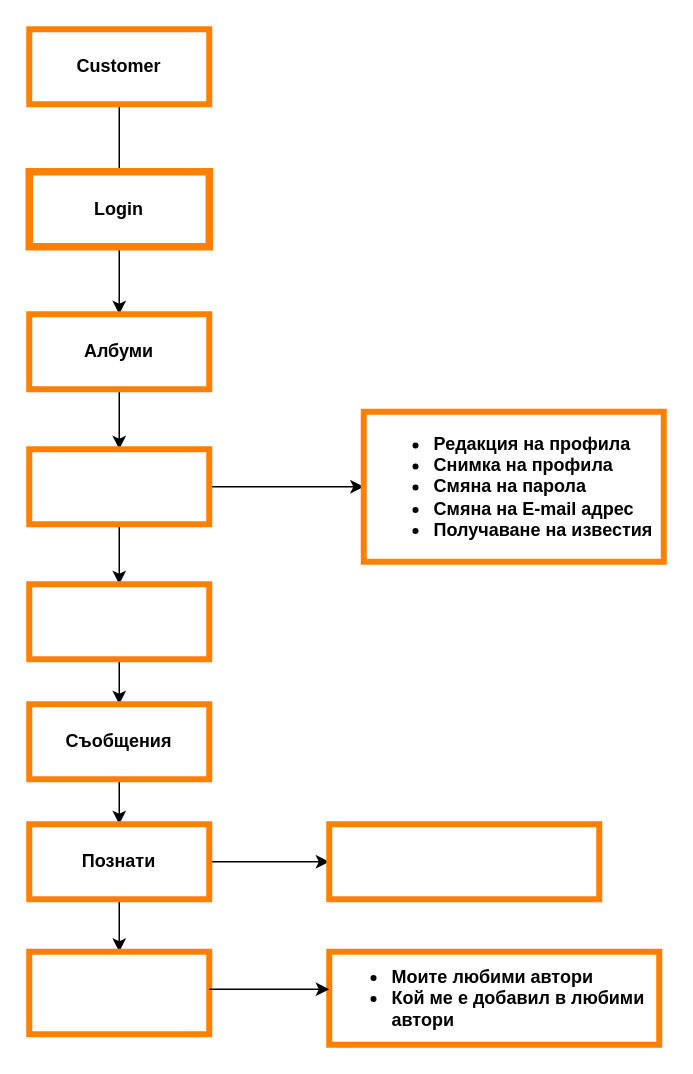
The diagram is 693 pixels wide and 1074 high, and some of its shapes have lost their labels. The shapes that lost their labels are listed below. From the top down, each one's centre as x and y in pixels, then its label:
the point at 119,486: Настройки
the point at 119,621: Любими албуми
the point at 464,861: Познати Указател
the point at 119,992: Любими автори
